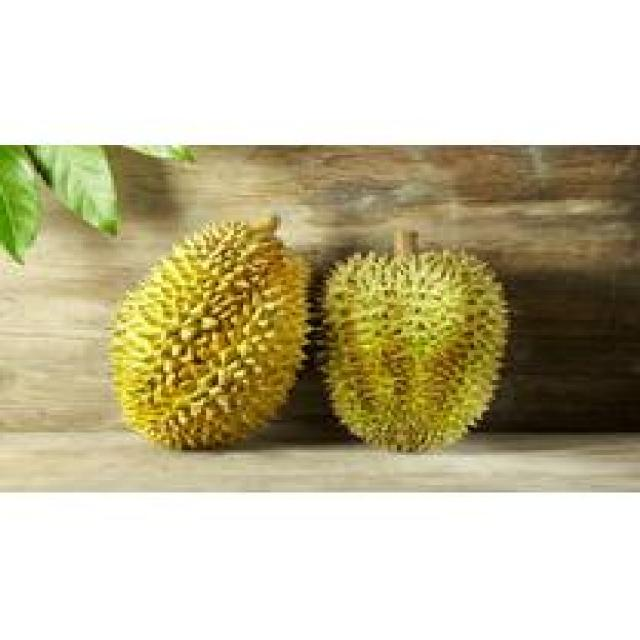fruit: (80, 205, 332, 470), (296, 222, 530, 470)
